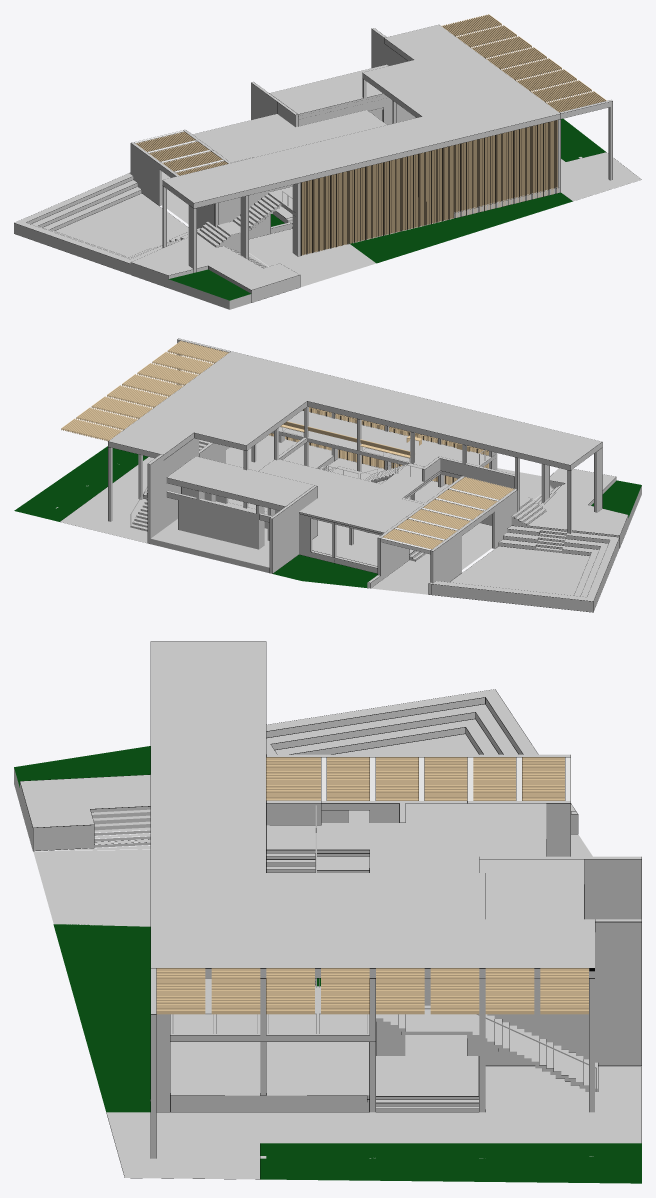
The model's file is canteen_borders2.glb.
3 views of the same model, one above another, from view 1: azimuth 30°, elevation 25°; view 2: azimuth 150°, elevation 25°; view 3: azimuth 270°, elevation 25° (orthographic). The views are drawn at different scales.
Parts seen in each view (by area): view 1: group_105, group_386.001, group_1, group_155, group_0.039, group_108, group_32, group_0.024, group_37, group_106, group_0.023, group_0.032 (+11 smaller); view 2: group_105, group_1, group_155, group_82, group_32, group_0.008, group_0.032, group_144, group_0.024, group_37, group_0.007, group_106 (+14 smaller); view 3: group_105, group_0.024, group_1, group_0.008, group_0.032, group_155, group_0.039, group_108, group_37, group_32, group_82, group_91 (+17 smaller).
Part boxes in pixels (box(x1,y1,x2,y2)): group_105: box(162, 24, 560, 208); group_386.001: box(301, 120, 557, 255); group_1: box(14, 173, 300, 302); group_155: box(192, 110, 386, 162); group_0.039: box(349, 192, 572, 263); group_108: box(226, 218, 453, 287); group_32: box(269, 64, 388, 119); group_0.024: box(561, 152, 641, 201); group_37: box(298, 28, 415, 126); group_106: box(129, 142, 214, 228); group_0.023: box(169, 269, 250, 300); group_0.032: box(561, 118, 605, 161); group_105: box(108, 351, 602, 470); group_1: box(432, 468, 628, 612); group_155: box(258, 459, 440, 533); group_82: box(199, 410, 495, 478); group_32: box(166, 456, 314, 510); group_0.008: box(143, 435, 426, 566); group_0.032: box(14, 446, 148, 521); group_144: box(166, 490, 264, 549); group_0.024: box(60, 457, 154, 543); group_37: box(147, 438, 228, 543); group_0.007: box(150, 519, 269, 573); group_106: box(428, 489, 517, 594); group_105: box(150, 641, 594, 978); group_0.024: box(106, 1066, 641, 1179); group_1: box(20, 689, 576, 851); group_0.008: box(150, 1035, 479, 1112); group_0.032: box(260, 1143, 641, 1183); group_155: box(266, 803, 546, 872); group_0.039: box(53, 924, 150, 1112); group_108: box(33, 809, 150, 926); group_37: box(467, 919, 641, 1065); group_32: box(479, 859, 584, 919); group_82: box(170, 978, 375, 1041); group_91: box(376, 1005, 598, 1091).
Bounding box in the file's own units: 45.58 × 6.6 × 25.5.
